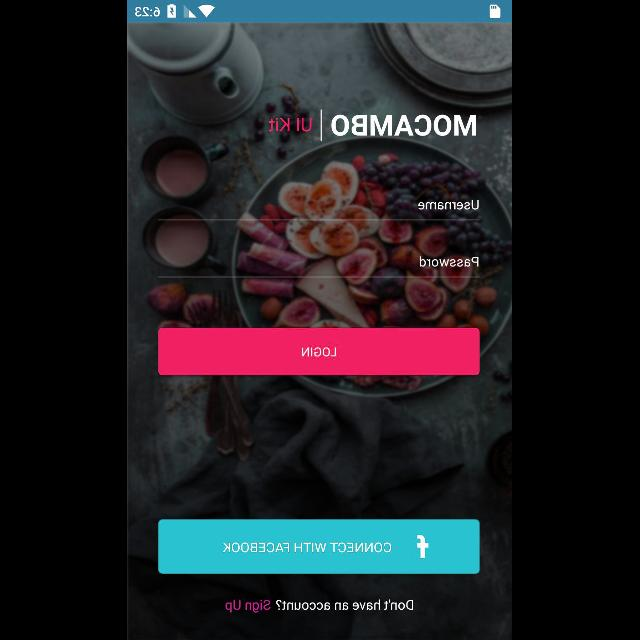backgroundimage: (128, 22, 512, 640)
input: (159, 256, 481, 278), (160, 200, 480, 220)
text: (332, 115, 476, 137), (226, 599, 414, 613), (419, 256, 478, 268), (418, 200, 479, 210), (270, 118, 312, 132)
textbutton: (160, 520, 480, 574), (160, 328, 480, 376)
uppertaskbar: (128, 1, 512, 23)
